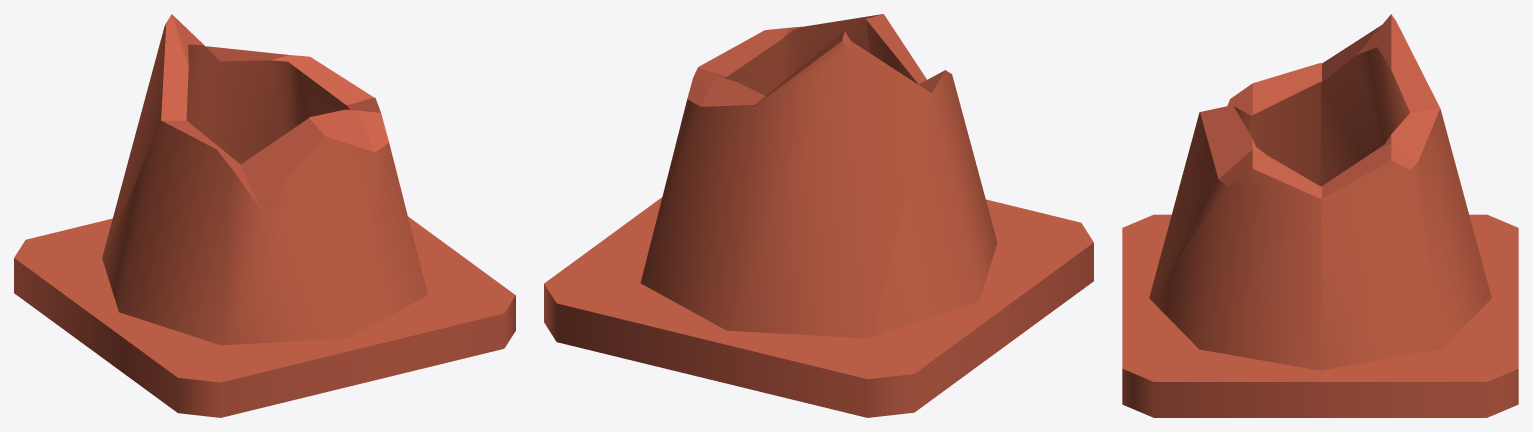
The model's file is Broken_Traffic_Cone_004.glb.
The picture shows the model from 3 angles, left to right: view 1: azimuth 30°, elevation 25°; view 2: azimuth 150°, elevation 25°; view 3: azimuth 270°, elevation 25°; orthographic projection. The views are drawn at different scales.
Parts seen in each view (by area): view 1: Broken Traffic Cone.004; view 2: Broken Traffic Cone.004; view 3: Broken Traffic Cone.004.
Part boxes in pixels (bbox=[...]): Broken Traffic Cone.004: bbox=[14, 14, 515, 417]; Broken Traffic Cone.004: bbox=[544, 14, 1093, 417]; Broken Traffic Cone.004: bbox=[1122, 14, 1518, 417].
Size of the model in its own units: 2 by 1.62 by 2.
Materials: 1 (1 with a texture image).
